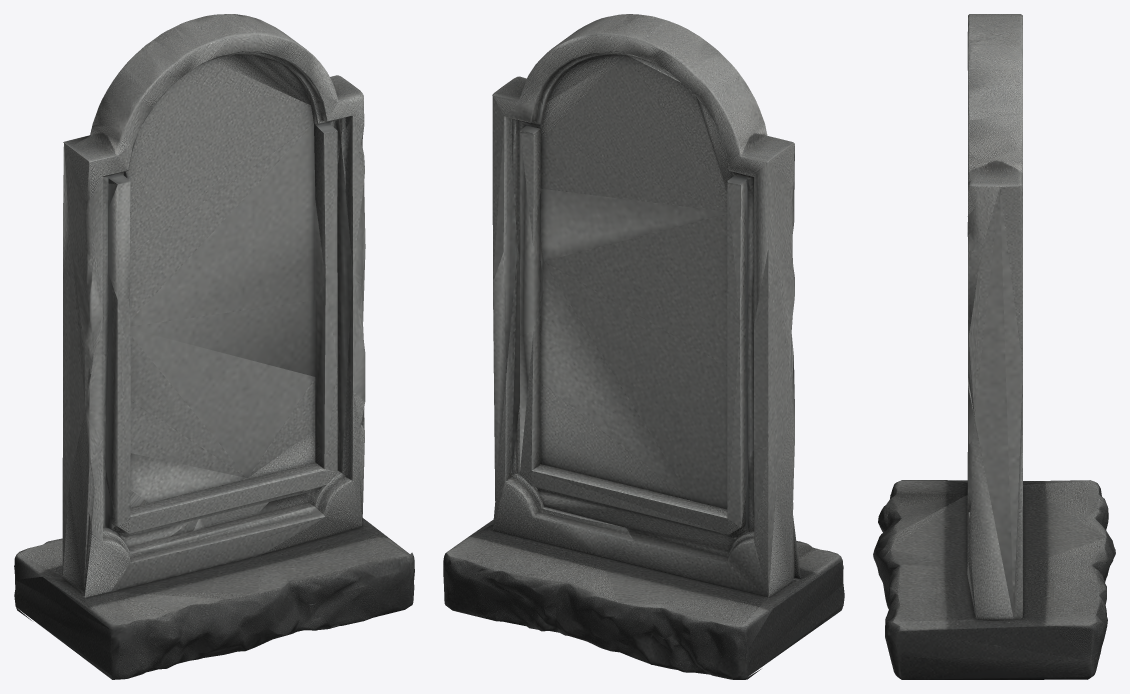
File: PierreTombale1.fbx
3 views of the same model, side by side, from view 1: azimuth 30°, elevation 25°; view 2: azimuth 150°, elevation 25°; view 3: azimuth 270°, elevation 25° (orthographic).
Visible parts, largest first — view 1: Mesh_0; view 2: Mesh_0; view 3: Mesh_0.
Boxes of the visible parts, x1=… form: Mesh_0: x1=14, y1=14, x2=414, y2=679; Mesh_0: x1=443, y1=14, x2=844, y2=679; Mesh_0: x1=873, y1=14, x2=1115, y2=679.
Bounding box in the file's own units: 104 × 190 × 72.
Materials: 1 (1 with a texture image).
